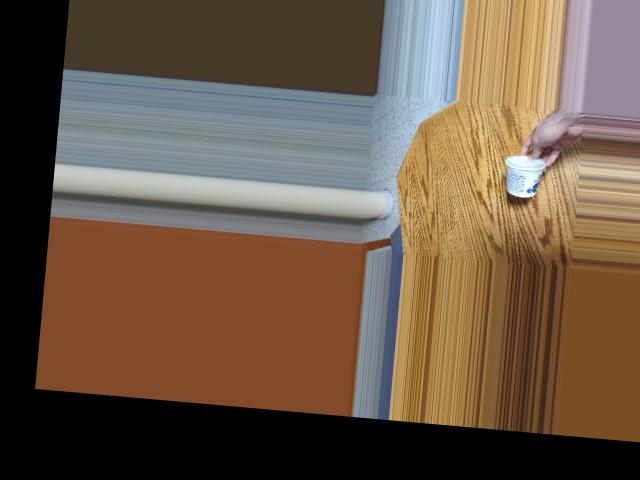cotage: (498, 153, 546, 193)
